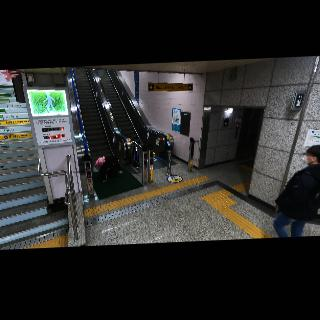anomaly: (94, 154, 125, 184)
normal: (272, 146, 320, 238)
